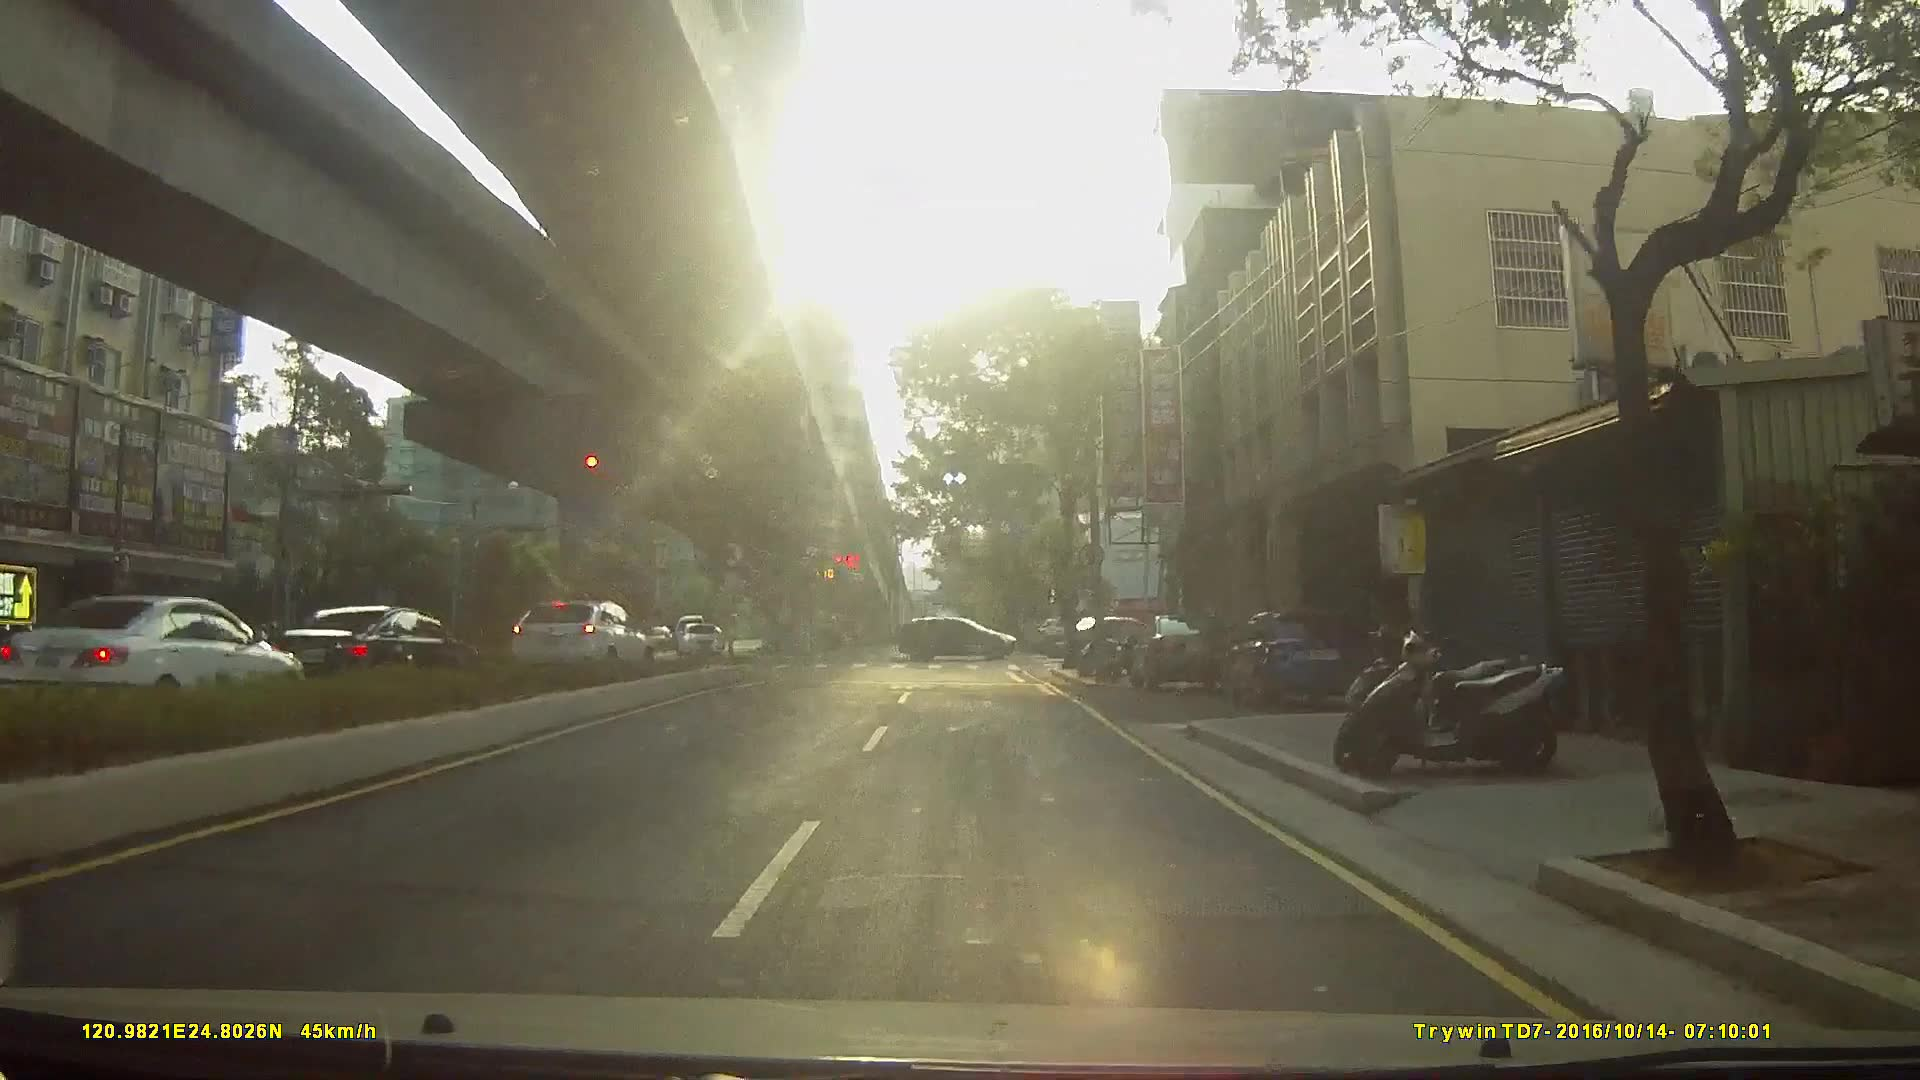vehicle: (1, 591, 303, 708), (264, 603, 480, 694), (1229, 603, 1379, 709), (502, 595, 651, 671), (1131, 607, 1240, 687), (899, 612, 1023, 658), (676, 618, 723, 655), (634, 622, 674, 650)
